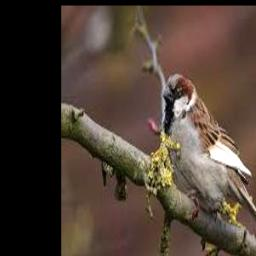Sparrow: (163, 73, 256, 244)
